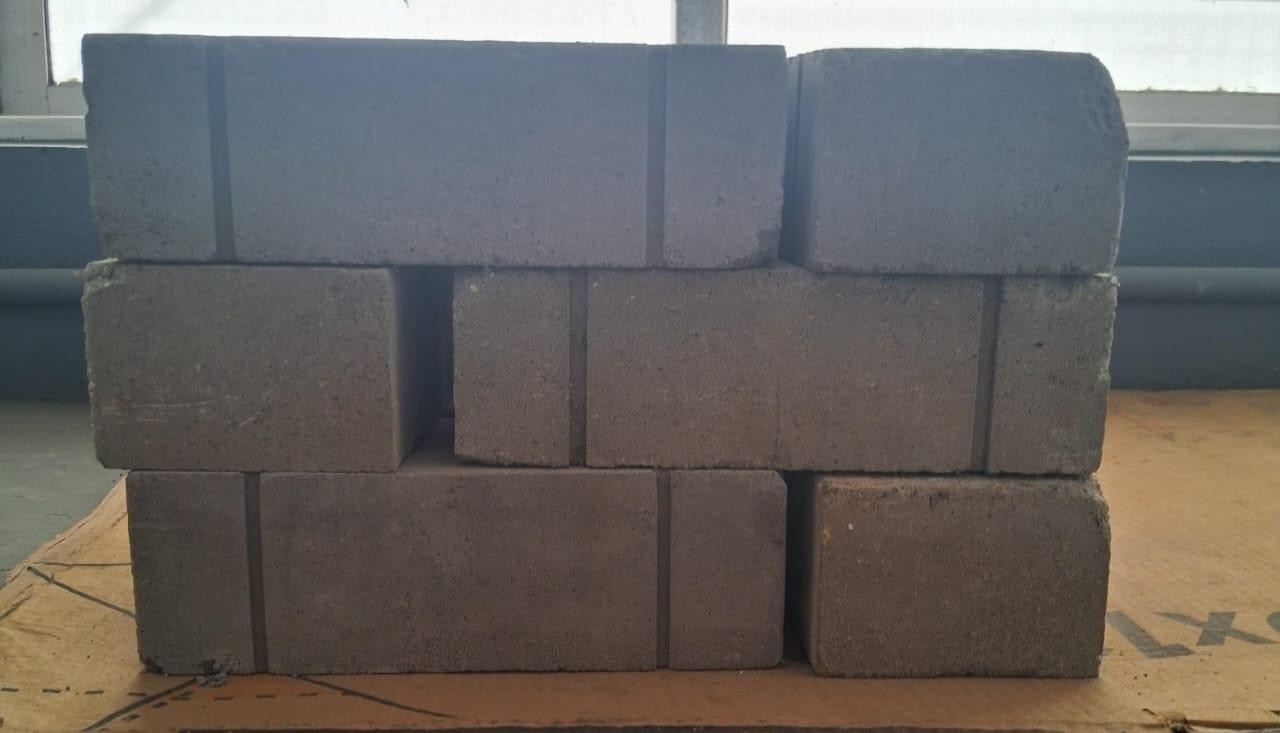Bricks: (84, 35, 778, 263), (457, 279, 1111, 480), (130, 484, 787, 683), (805, 54, 1119, 267), (85, 270, 404, 462), (822, 487, 1103, 683)
